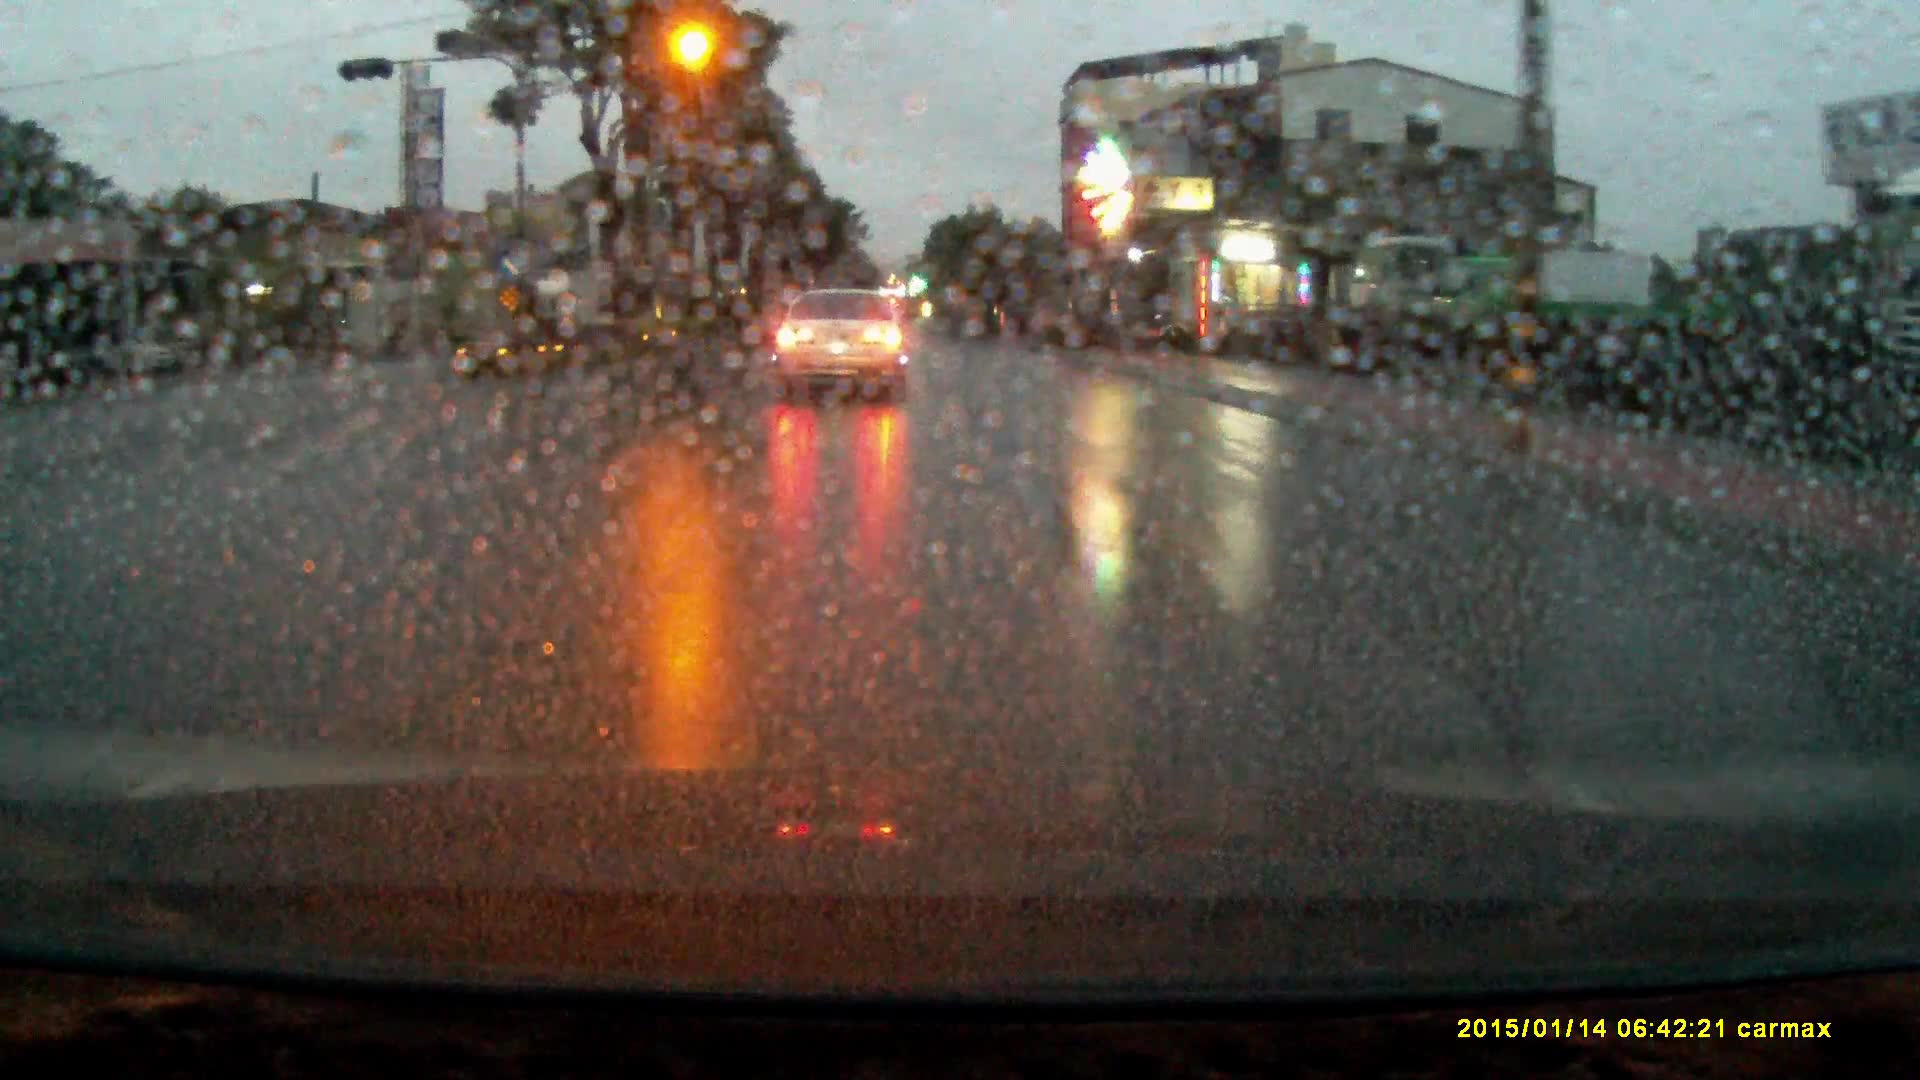vehicle: (1440, 251, 1662, 353), (775, 291, 916, 409), (1346, 232, 1476, 355), (535, 268, 607, 342)
